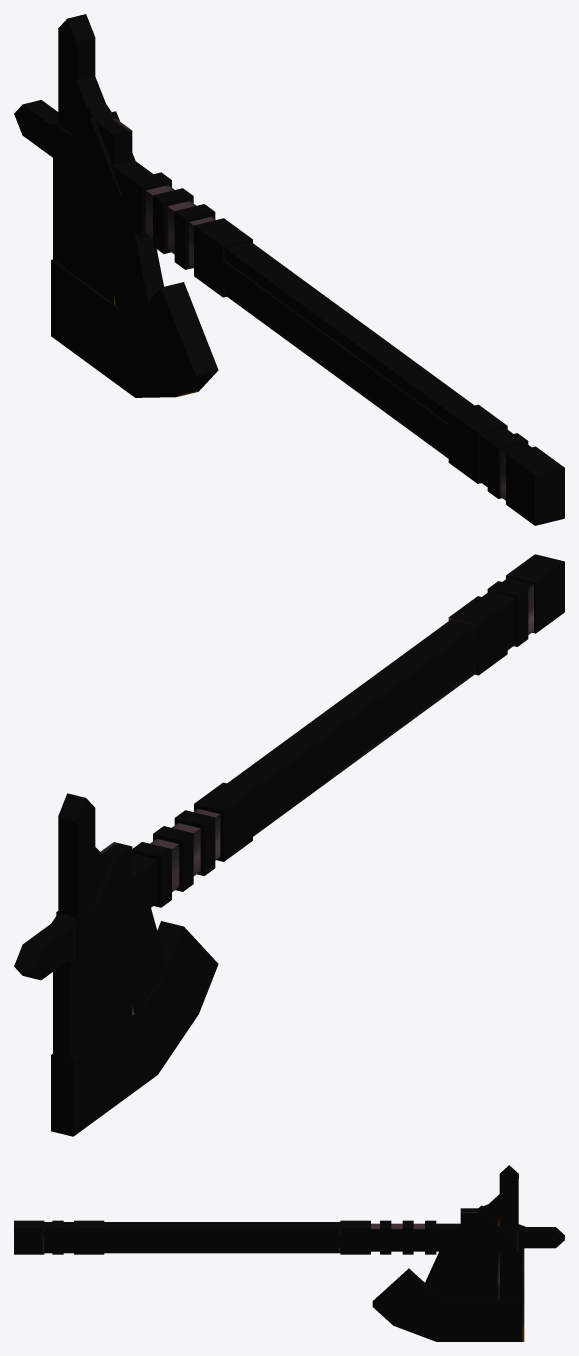
The model's file is tormented_mind.obj.
3 renders of one model, top to bottom at view 1: azimuth 30°, elevation 25°; view 2: azimuth 150°, elevation 25°; view 3: azimuth 270°, elevation 25°, orthographic. The views are drawn at different scales.
Parts seen in each view (by area): view 1: cube.024; view 2: cube.024; view 3: cube.024.
Boxes of the visible parts, x1,y1,x2,y2 form: cube.024: [14, 14, 564, 525]; cube.024: [14, 554, 564, 1136]; cube.024: [14, 1165, 564, 1341].
Size of the model in its own units: 0.1164 by 1.22 by 3.55.
